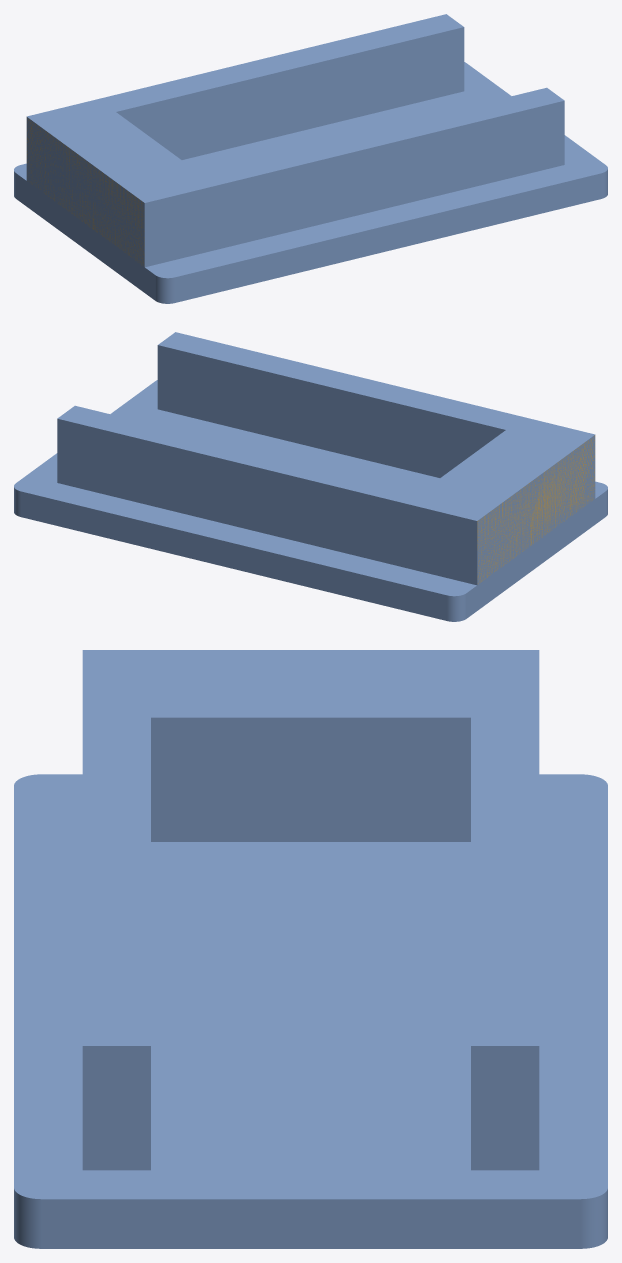
Rendered from step_03.glb.
The picture shows the model from 3 angles, top to bottom: view 1: azimuth 30°, elevation 25°; view 2: azimuth 150°, elevation 25°; view 3: azimuth 270°, elevation 25°; orthographic projection. The views are drawn at different scales.
Visible parts, largest first — view 1: part__body, added__body; view 2: part__body, added__body; view 3: part__body.
Part boxes in pixels (x1,y1,x2,y2): part__body: (14, 14, 607, 303); added__body: (26, 119, 144, 266); part__body: (14, 332, 607, 621); added__body: (477, 435, 595, 584); part__body: (14, 650, 607, 1248).
Bounding box in the file's own units: 220 × 42 × 130.
